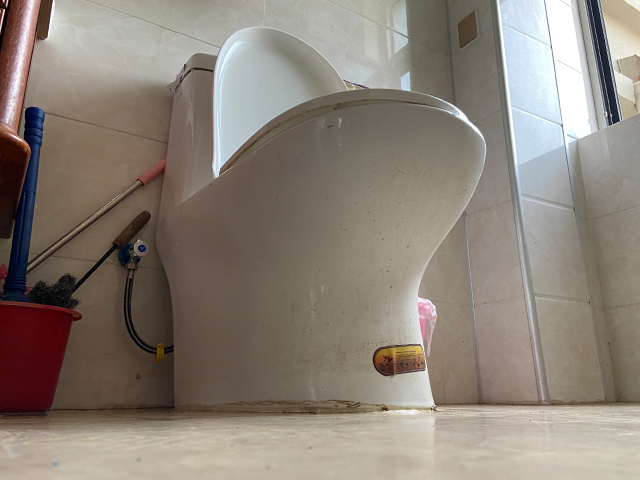closestool: (153, 23, 488, 417)
